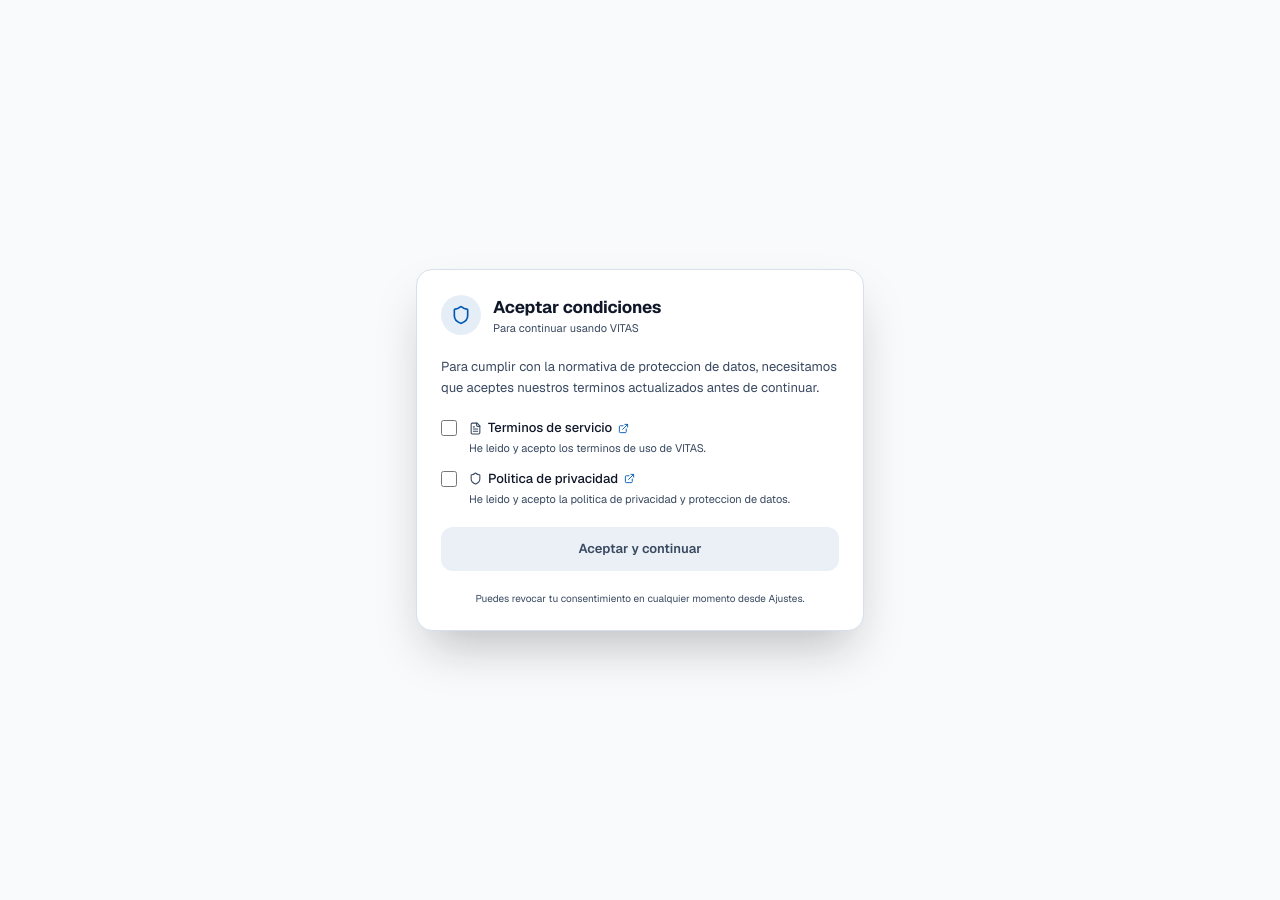
Test: AcceptTermsGate › accept button is disabled until both checkboxes are checked
Expected: the button "Aceptar y continuar" is disabled, [441,527,839,571]
Click the 1st checkbox. click: (449, 428)
box: [441,420,457,436]
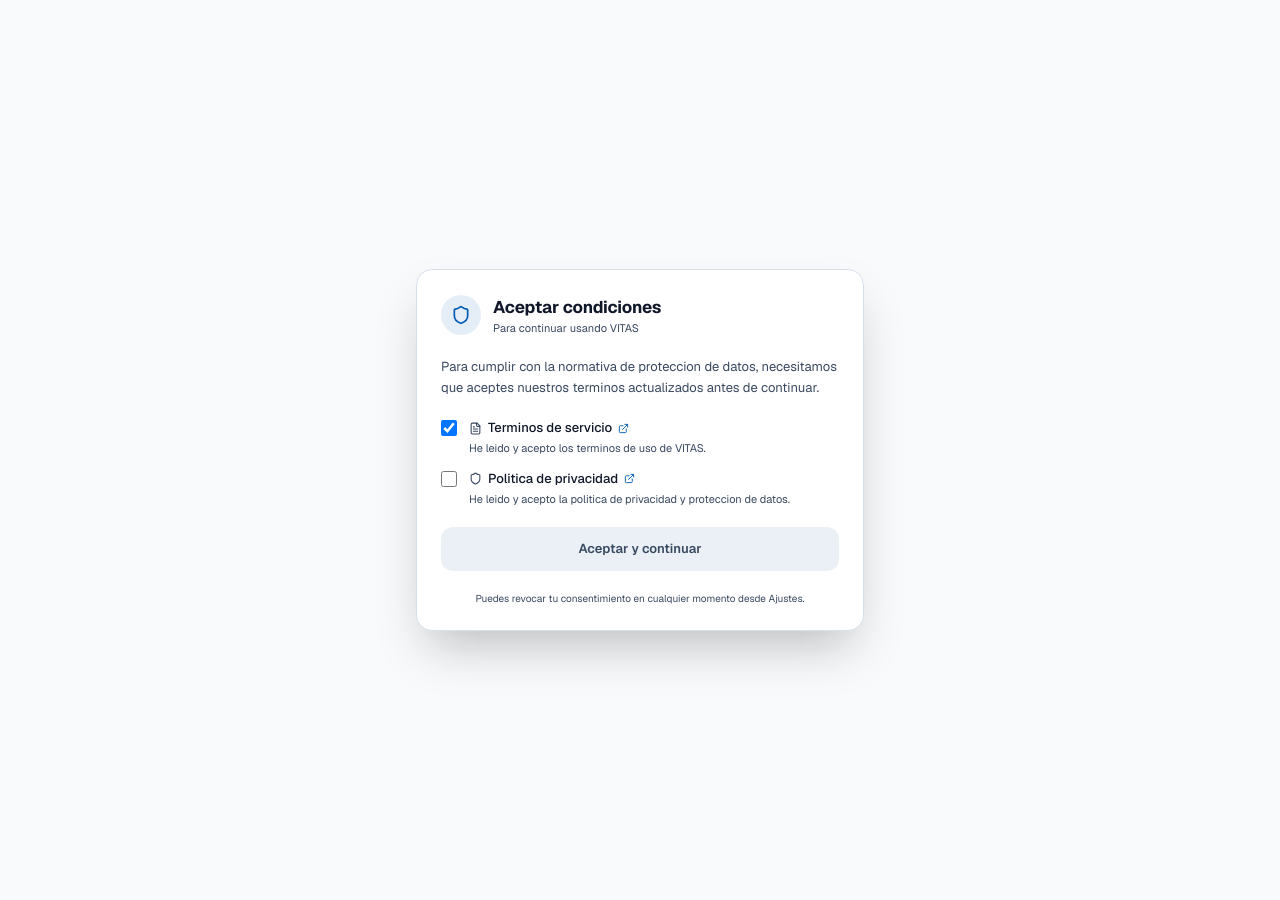
Click the 2nd checkbox. click: (449, 479)
box: [441,471,457,487]
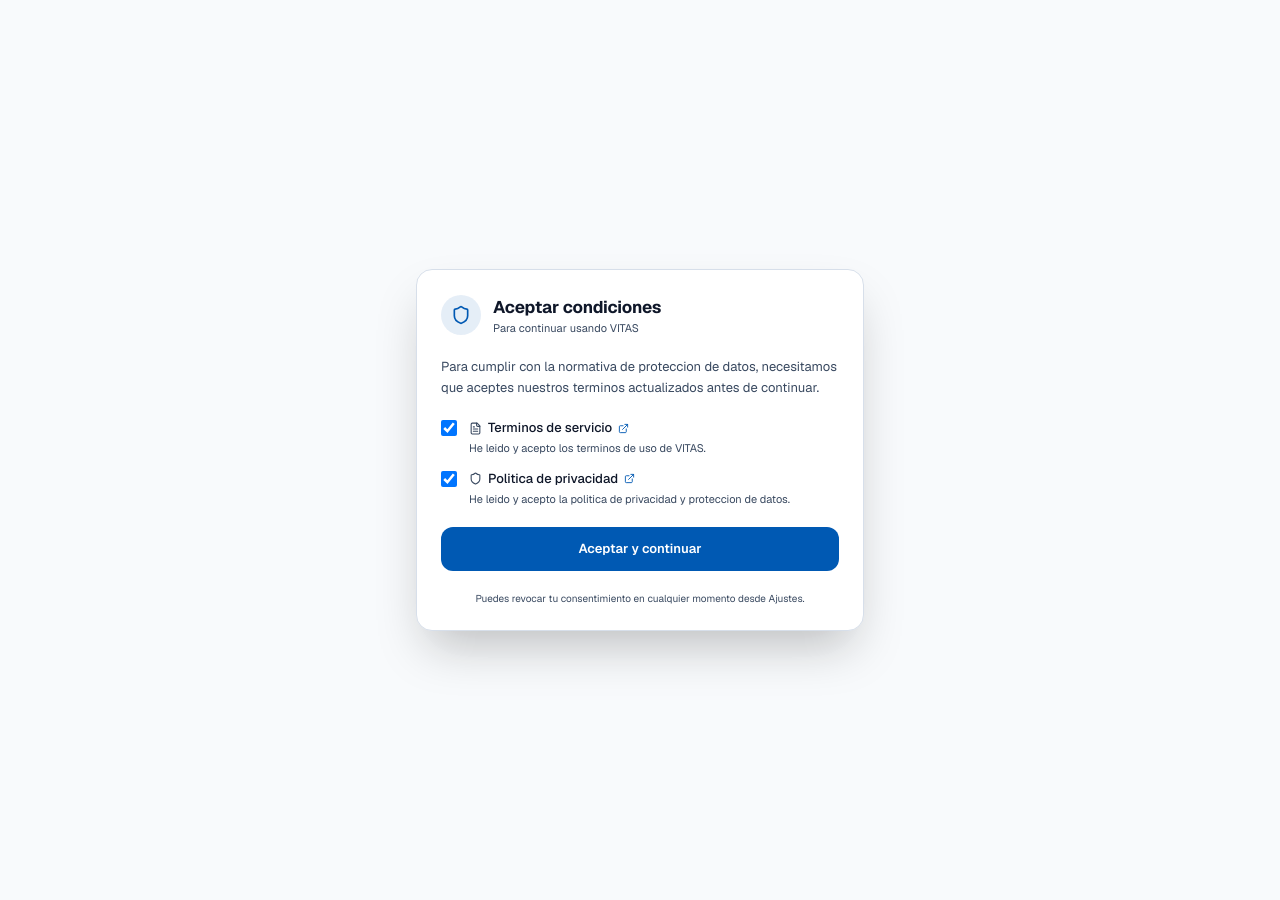
Now the button "Aceptar y continuar" is enabled, box [441,527,839,571]
